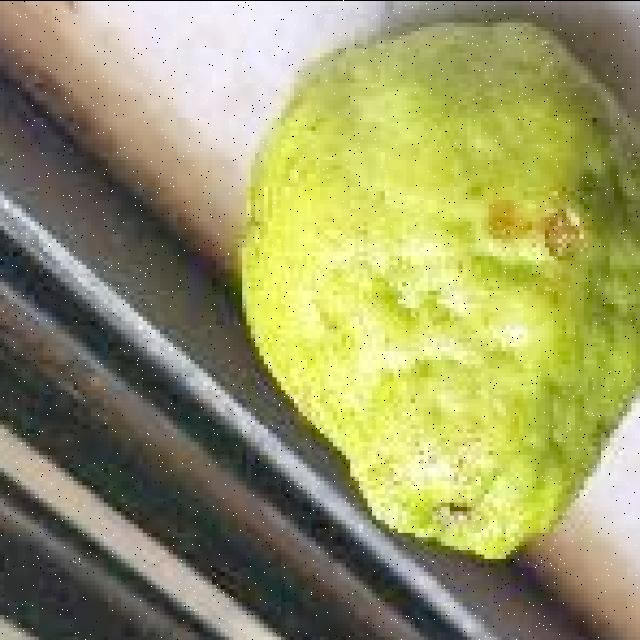Good_Guava 5-7 days: (244, 19, 640, 558)
